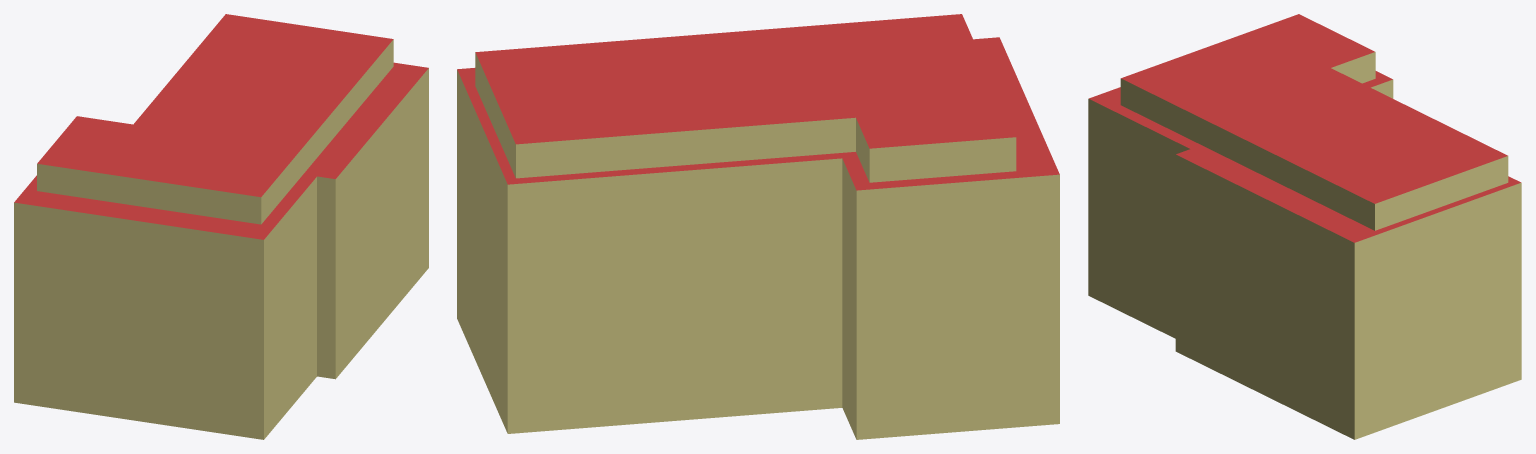
The picture shows the model from 3 angles, left to right: view 1: azimuth 30°, elevation 25°; view 2: azimuth 150°, elevation 25°; view 3: azimuth 270°, elevation 25°; orthographic projection. The views are drawn at different scales.
Visible parts, largest first — view 1: group_6, group_4, group_5, group_3; view 2: group_6, group_4, group_5, group_3; view 3: group_6, group_4, group_5, group_3.
Part boxes in pixels (x1,y1,x2,y2): group_6: [14, 68, 428, 439]; group_4: [37, 14, 393, 197]; group_5: [37, 39, 393, 224]; group_3: [14, 62, 428, 239]; group_6: [457, 69, 1059, 439]; group_4: [475, 14, 1015, 148]; group_5: [475, 52, 1016, 182]; group_3: [457, 37, 1059, 190]; group_6: [1088, 79, 1521, 439]; group_4: [1121, 14, 1507, 203]; group_5: [1120, 52, 1508, 230]; group_3: [1089, 71, 1520, 242].
Bounding box in the file's own units: 38.5 × 32.62 × 18.62.
